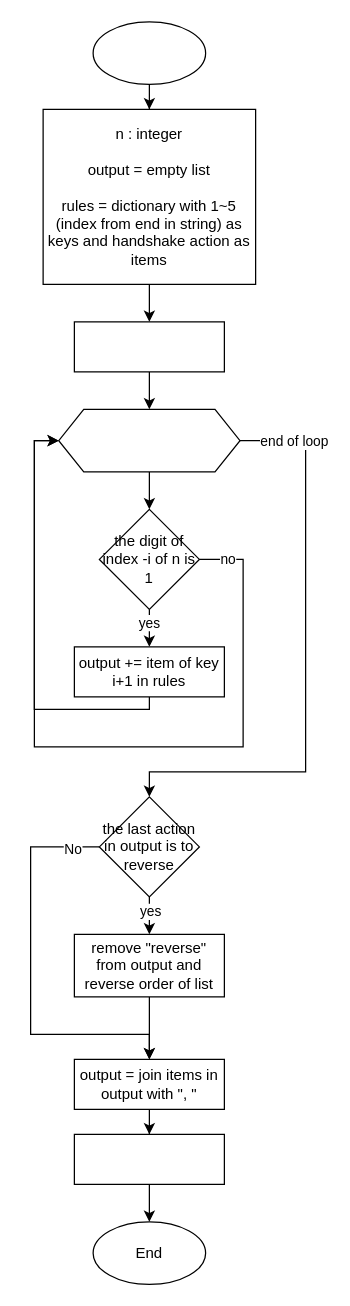
This 350x1306 diagram has some shape labels left out. The shapes that lost their labels are listed below. From the top down, each one's centre as x and y in pixels, then its label:
At (x=149, y=52): "Start".
At (x=148, y=346): "change n to binary string".
At (x=149, y=440): "for i in range length of n".
At (x=148, y=1158): "return output".
